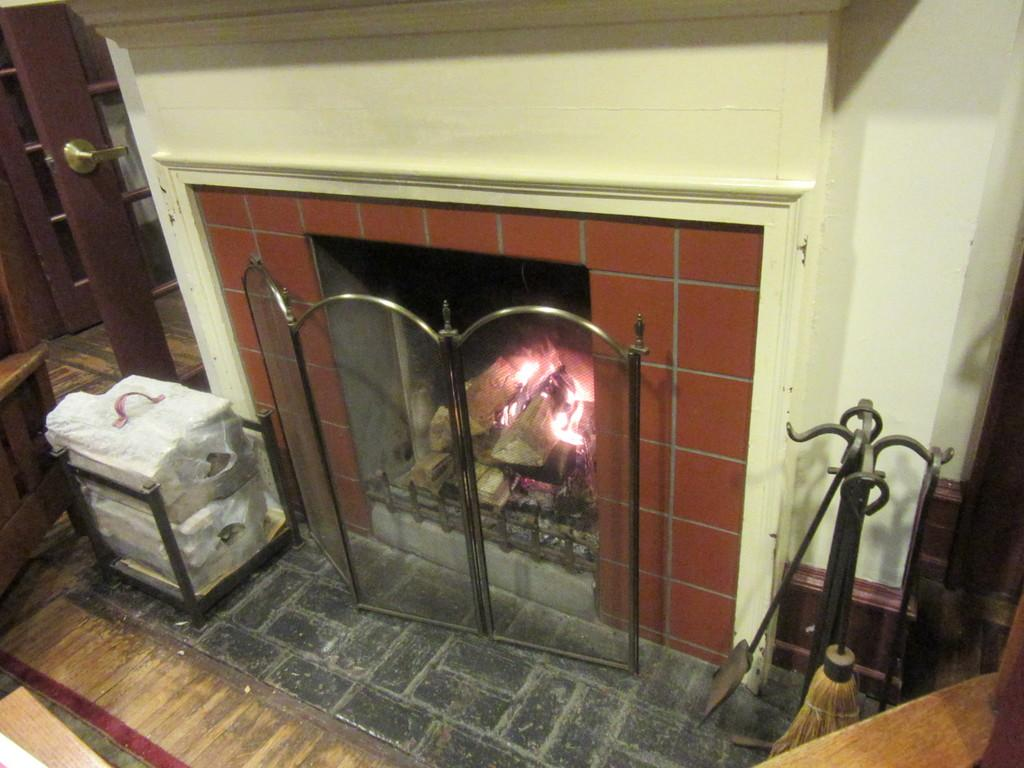Fire: (492, 324, 609, 471)
